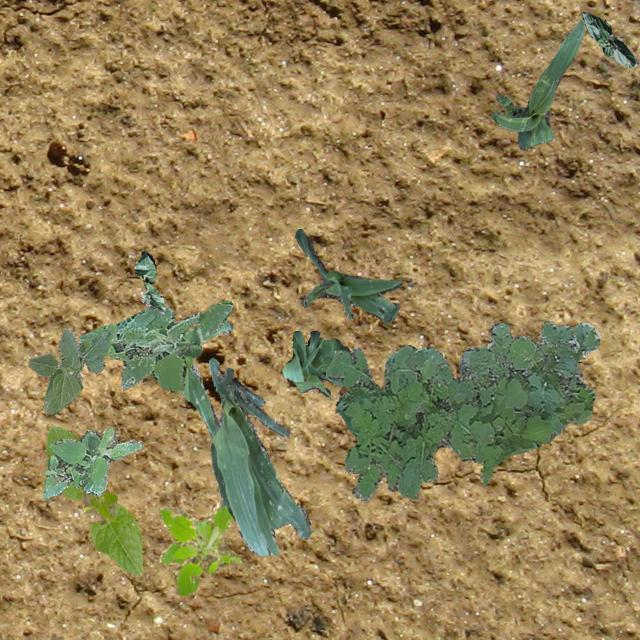crop: (208, 358, 312, 554), (45, 424, 142, 576), (490, 19, 584, 150), (294, 228, 401, 322), (28, 327, 110, 412), (180, 318, 232, 437), (280, 330, 348, 398), (582, 11, 638, 66), (134, 250, 164, 312)
weed: (324, 319, 600, 502), (78, 300, 232, 390), (157, 500, 240, 596), (42, 427, 142, 498)
